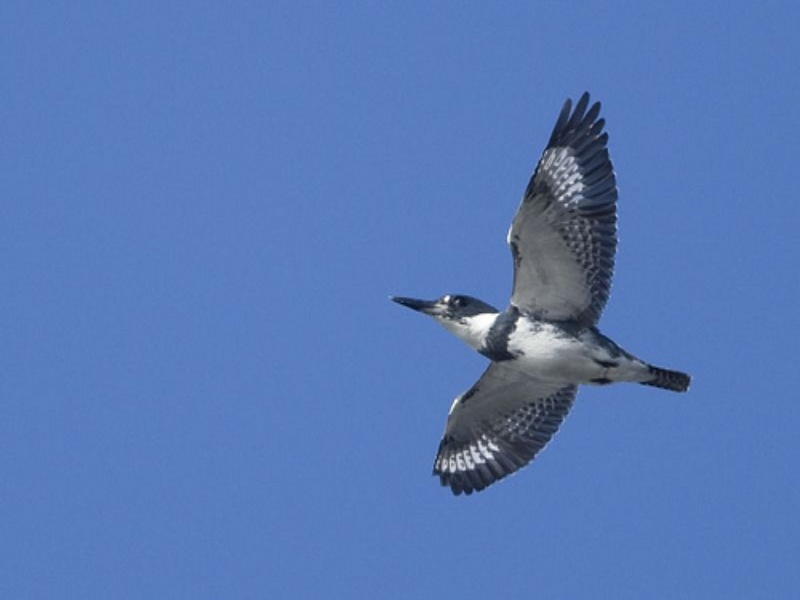kingfisher: (383, 82, 702, 515)
